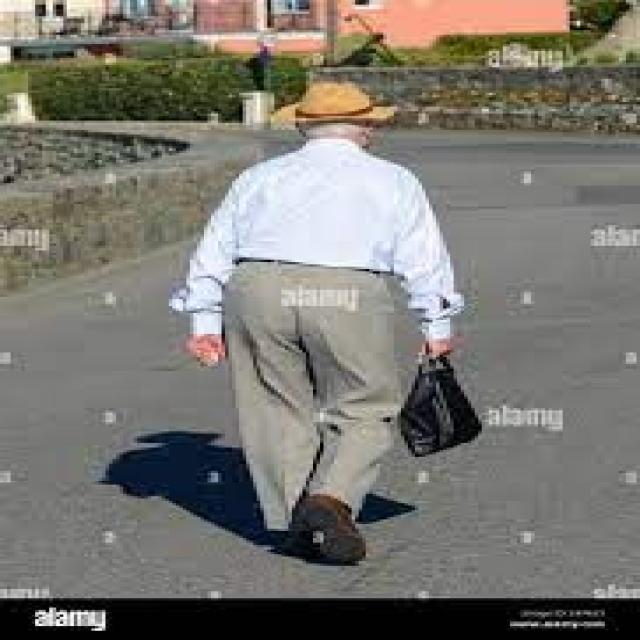idoso em pe: (172, 79, 482, 563)
